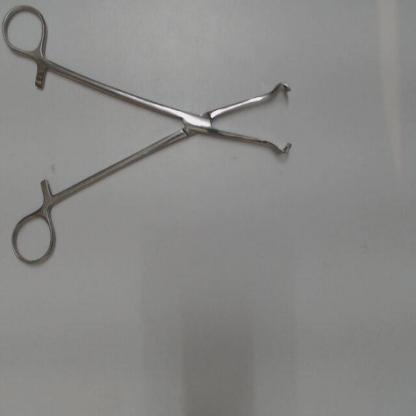8 Babcock Tissue Forceps: (1, 2, 301, 271)
